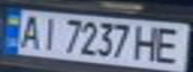2: (78, 18, 100, 56)
3: (93, 19, 115, 57)
7: (57, 16, 84, 54), (112, 21, 133, 60)
A: (15, 11, 45, 50)
E: (151, 25, 187, 65)
H: (133, 23, 163, 62)
I: (36, 15, 60, 52)
